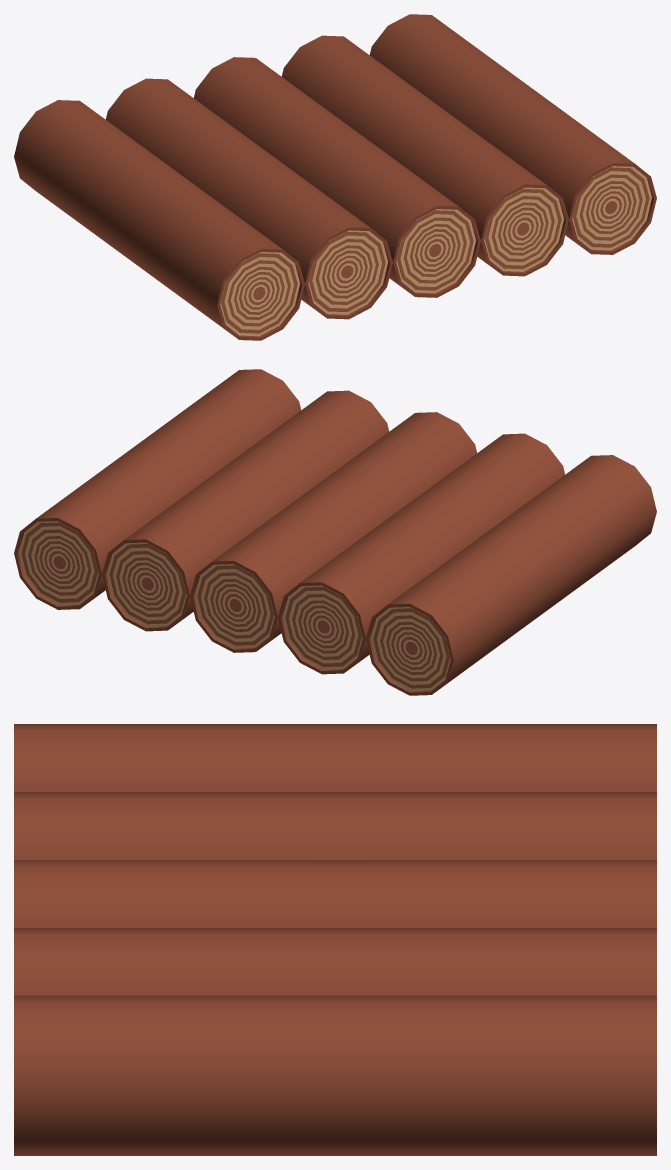
File: wooden_bridge.fbx
The picture shows the model from 3 angles, top to bottom: view 1: azimuth 30°, elevation 25°; view 2: azimuth 150°, elevation 25°; view 3: azimuth 270°, elevation 25°; orthographic projection. The views are drawn at different scales.
Visible parts, largest first — view 1: Cylinder; view 2: Cylinder; view 3: Cylinder.
Part boxes in pixels (x1,y1,x2,y2): Cylinder: [14, 14, 656, 340]; Cylinder: [14, 369, 656, 695]; Cylinder: [14, 724, 656, 1155].
Size of the model in its own units: 2.5 by 0.5 by 2.
